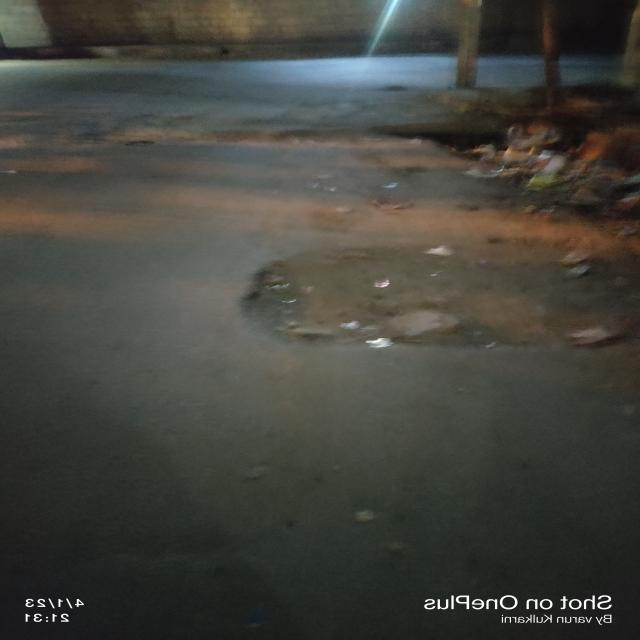potholes: (229, 229, 637, 354)
